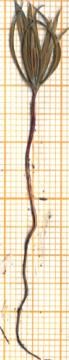flower: (4, 0, 69, 92)
root: (13, 200, 45, 360)
stem: (23, 93, 40, 201)
